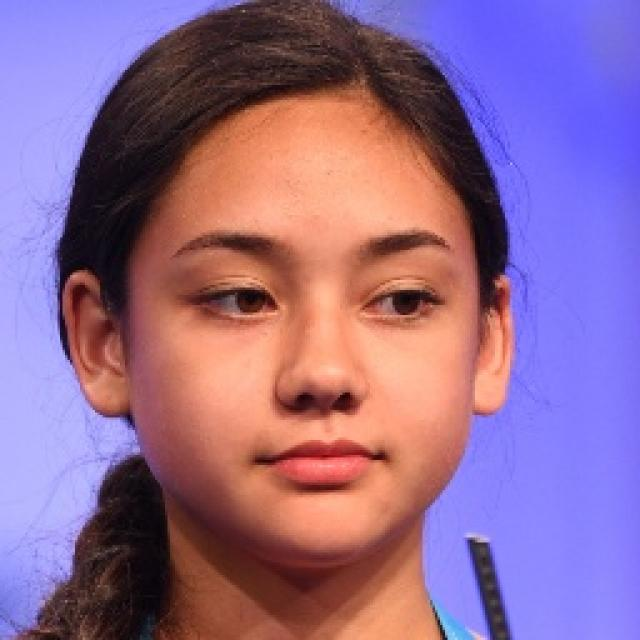earlobe: (471, 362, 509, 417), (92, 367, 131, 420)
eye: (359, 286, 438, 320), (197, 286, 279, 318)
nose: (275, 381, 375, 434)
wholeear: (62, 269, 132, 420), (472, 274, 514, 416)
